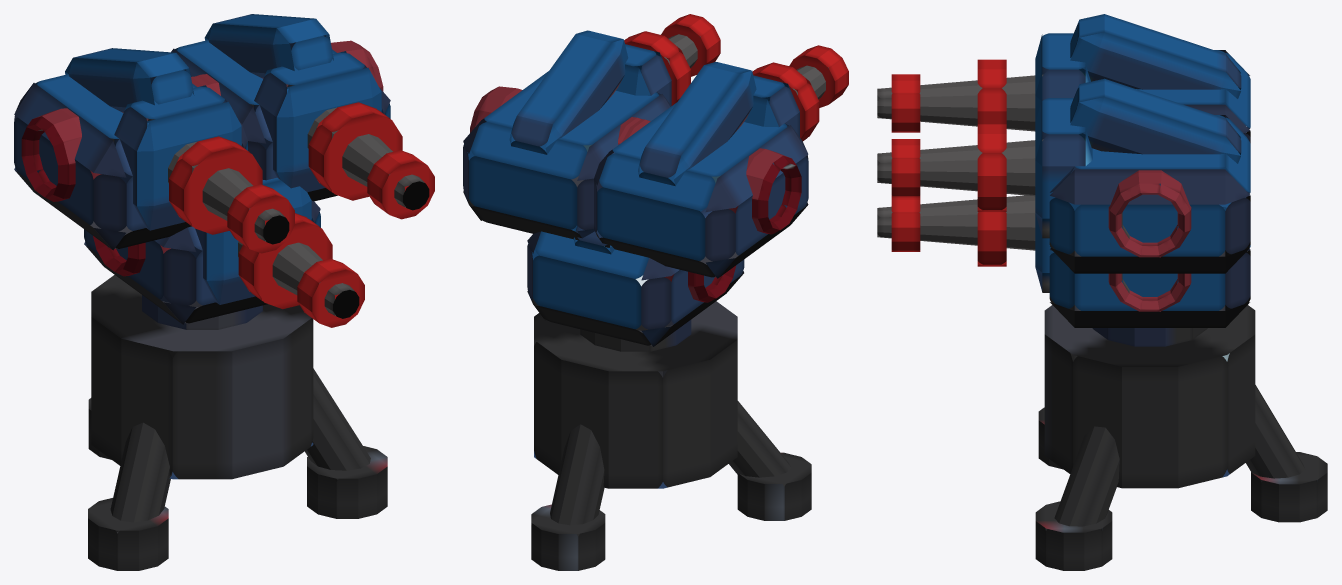
File: Turret2.fbx
3 renders of one model, left to right at view 1: azimuth 30°, elevation 25°; view 2: azimuth 150°, elevation 25°; view 3: azimuth 270°, elevation 25°, orthographic. The views are drawn at different scales.
Parts seen in each view (by area): view 1: cylinder_4, beveled_cuboid_3, beveled_cuboid_5, beveled_cuboid_8, beveled_cuboid, beveled_cuboid_7, beveled_cuboid_4, beveled_cuboid_6, cylinder_15, cylinder_12, cylinder_1, cylinder_10 (+14 smaller); view 2: cylinder_4, beveled_cuboid_3, beveled_cuboid_6, beveled_cuboid, beveled_cuboid_7, beveled_cuboid_4, cylinder_2, cylinder_9, cylinder_10, torus_3, cylinder_1, beveled_cuboid_8 (+11 smaller); view 3: cylinder_4, beveled_cuboid_6, beveled_cuboid, beveled_cuboid_7, beveled_cuboid_4, cylinder_11, cylinder_14, beveled_cuboid_8, cylinder_6, cylinder_3, cylinder, cylinder_9 (+13 smaller).
Part boxes in pixels (x1,y1,x2,y2): cylinder_4: [91, 275, 313, 479]; beveled_cuboid_3: [14, 74, 247, 250]; beveled_cuboid_5: [114, 85, 241, 230]; beveled_cuboid_8: [254, 51, 381, 192]; beveled_cuboid: [84, 201, 320, 324]; beveled_cuboid_7: [204, 14, 333, 87]; beveled_cuboid_4: [65, 48, 194, 121]; beveled_cuboid_6: [171, 40, 390, 201]; cylinder_15: [308, 102, 402, 200]; cylinder_12: [169, 136, 262, 234]; cylinder_1: [110, 422, 172, 533]; cylinder_10: [88, 498, 168, 570]; cylinder_4: [534, 301, 737, 488]; beveled_cuboid_3: [594, 102, 808, 278]; beveled_cuboid_6: [463, 71, 671, 240]; beveled_cuboid: [527, 207, 744, 346]; beveled_cuboid_7: [509, 30, 628, 154]; beveled_cuboid_4: [638, 62, 756, 186]; cylinder_2: [550, 424, 604, 536]; cylinder_9: [531, 504, 605, 570]; cylinder_10: [737, 452, 811, 520]; torus_3: [729, 148, 801, 234]; cylinder_1: [729, 401, 791, 486]; beveled_cuboid_8: [583, 44, 671, 151]; cylinder_4: [1044, 305, 1255, 488]; beveled_cuboid_6: [1049, 115, 1250, 273]; beveled_cuboid: [1049, 194, 1250, 327]; beveled_cuboid_7: [1070, 78, 1241, 172]; beveled_cuboid_4: [1070, 14, 1241, 107]; cylinder_11: [877, 74, 1043, 131]; cylinder_14: [877, 139, 1043, 196]; beveled_cuboid_8: [1035, 98, 1092, 238]; cylinder_6: [877, 195, 1035, 250]; cylinder_3: [1054, 426, 1119, 529]; cylinder: [1035, 501, 1112, 570]; cylinder_9: [1251, 452, 1327, 522].
Size of the model in its own units: 233 by 325 by 294.
Materials: 1 (1 with a texture image).
